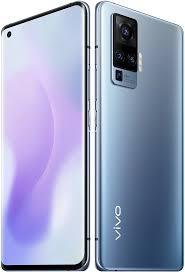Smartphone: (96, 1, 185, 272), (6, 6, 88, 272)
